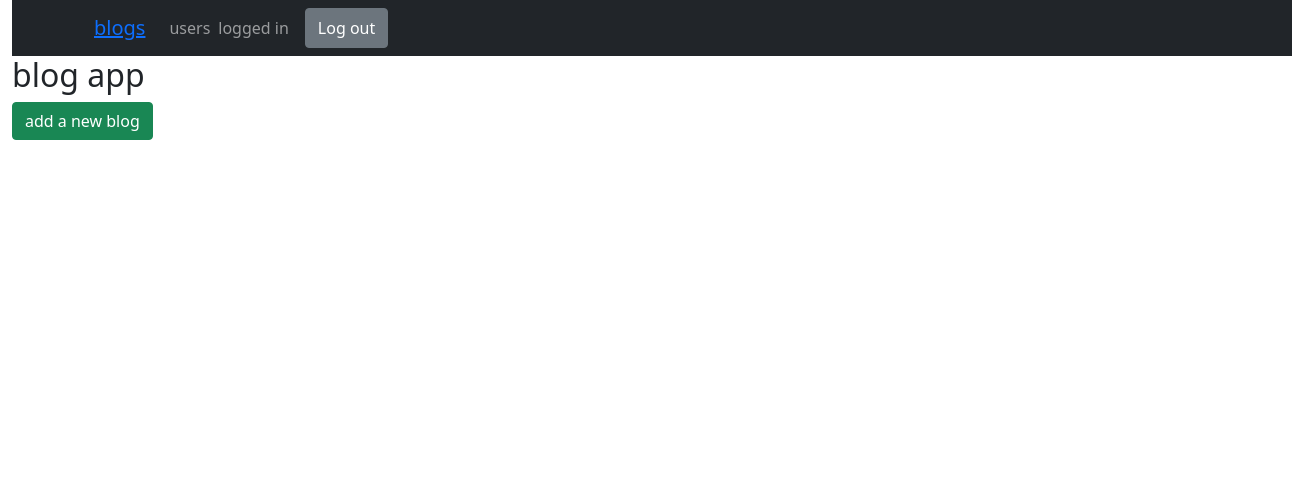
Blog app › When logged in › A blog can be created
Click the button "add a new blog" at (83, 121), box [12,102,153,140]
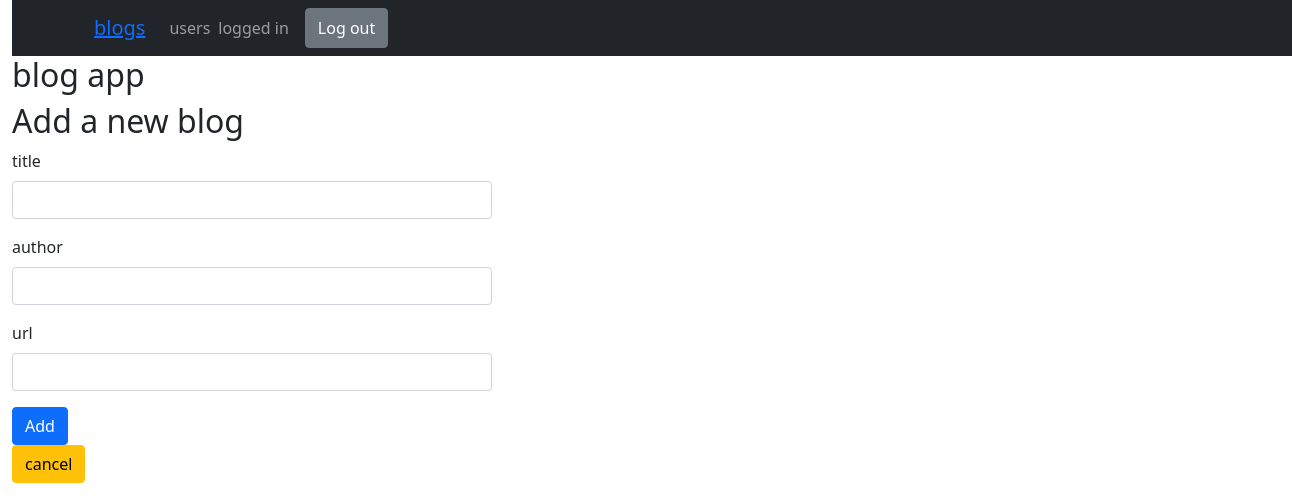
Type "Blog by Cypress" into the field with id "titleInput" at (252, 200), box [12,181,492,219]
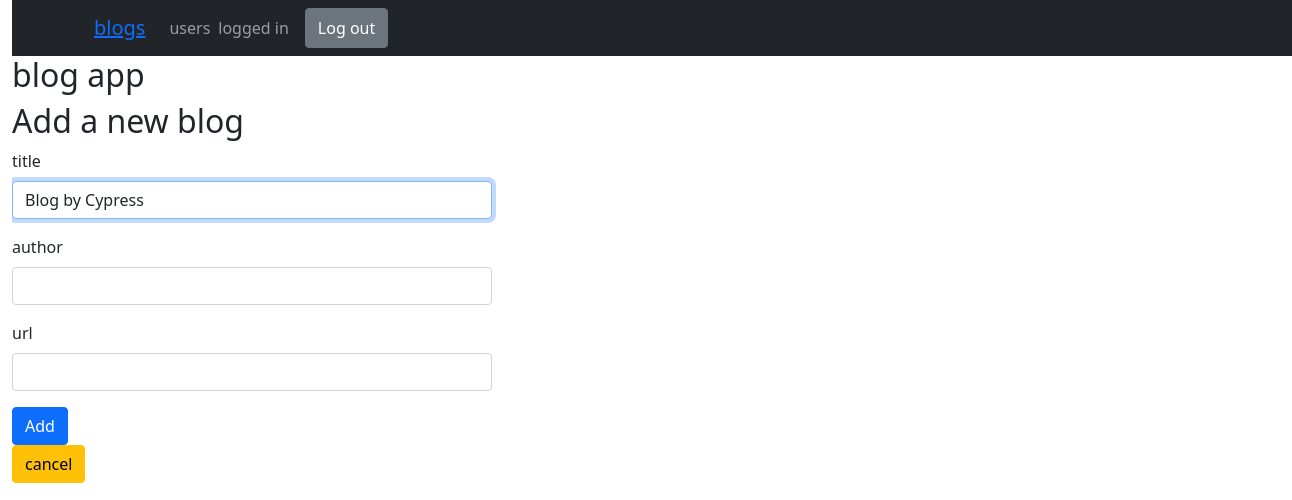
Type "Cypress Hill" into the field with id "authorInput" at (252, 286), box [12,267,492,305]
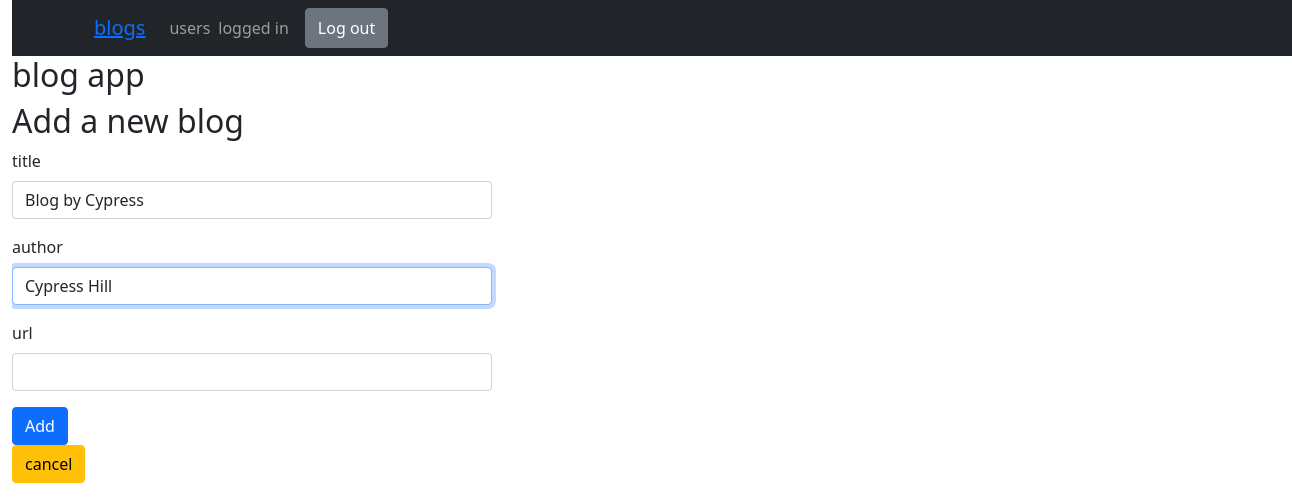
Type "google.com" into the field with id "urlInput" at (252, 372), box [12,353,492,391]
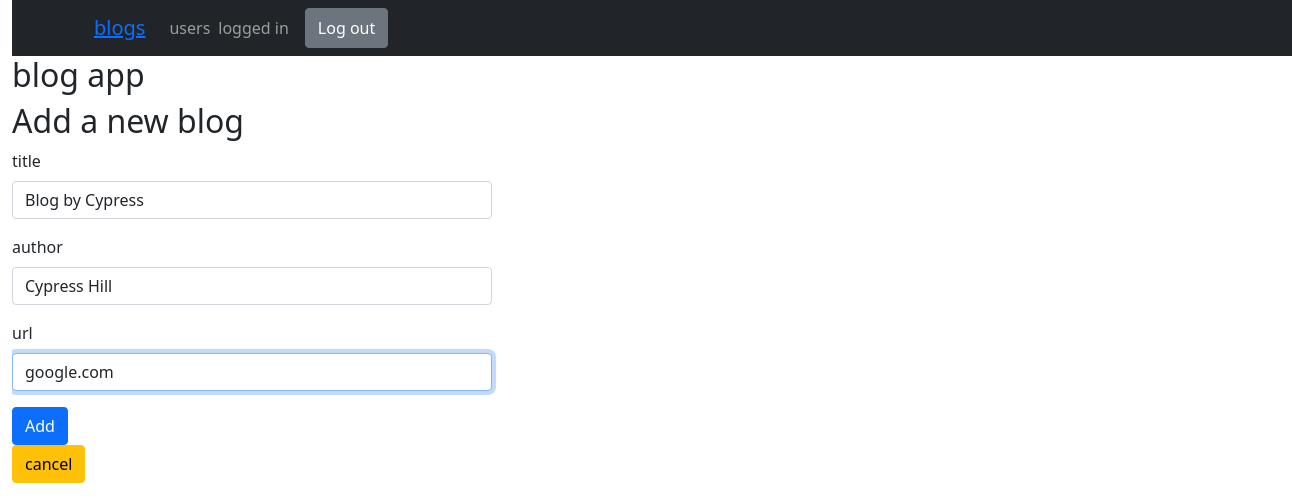
Click the button with id "submitButton" at (40, 426), box [12,407,68,445]
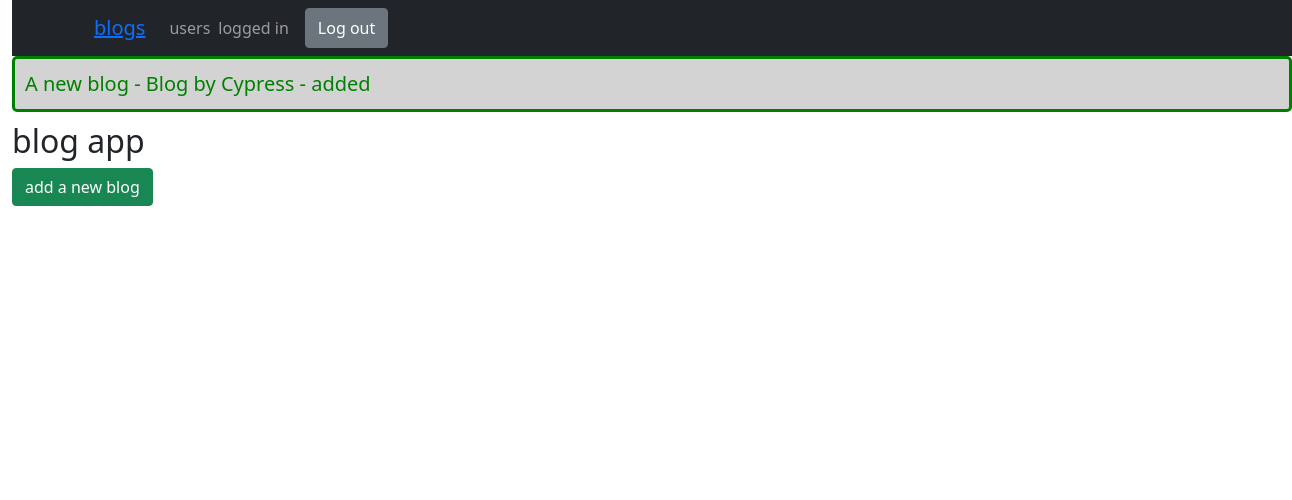
Result: the text "Blog by Cypress" is shown at [25,70,371,97]
